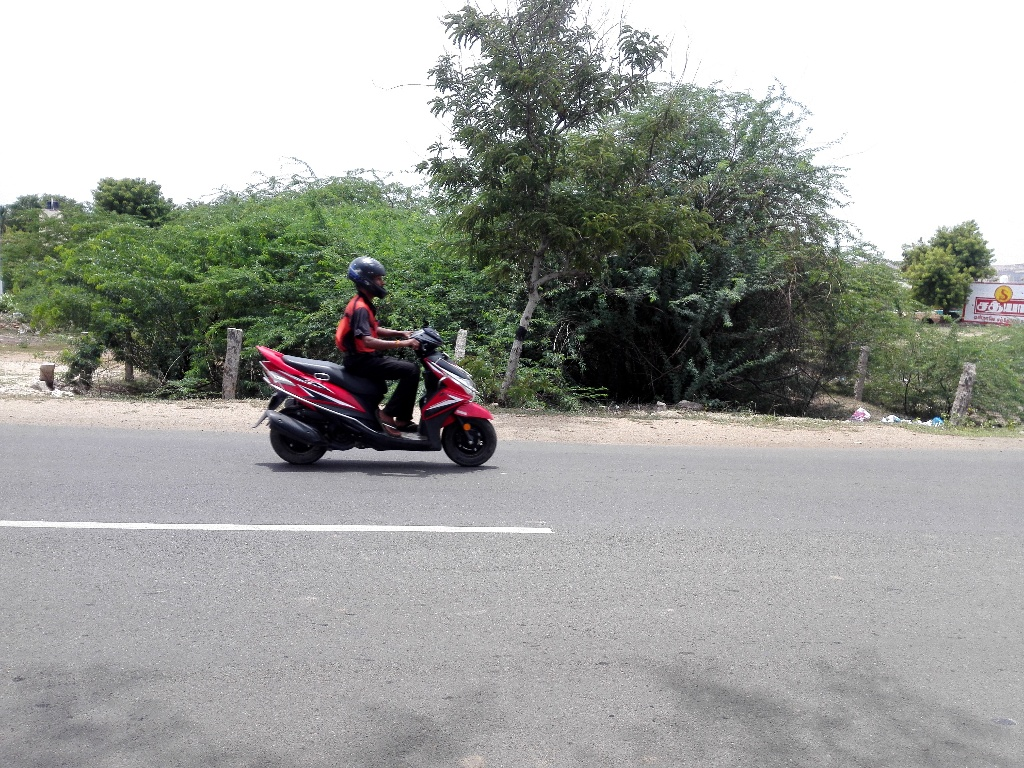biker: (221, 218, 535, 489)
helmet: (341, 241, 400, 311)
